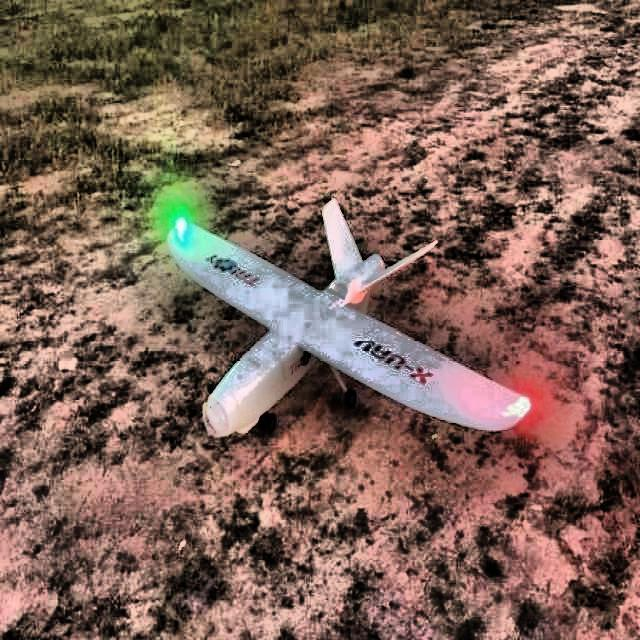iha: (144, 192, 552, 452)
